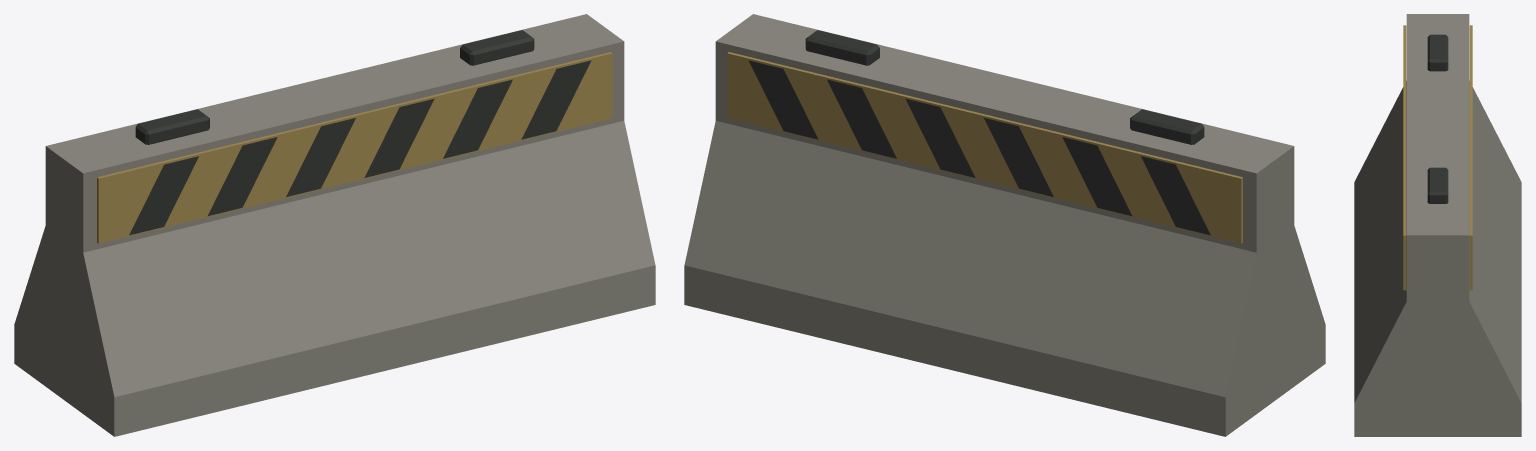
The model's file is barrier.glb.
3 renders of one model, left to right at view 1: azimuth 30°, elevation 25°; view 2: azimuth 150°, elevation 25°; view 3: azimuth 270°, elevation 25°, orthographic. The views are drawn at different scales.
Visible parts, largest first — view 1: barrier; view 2: barrier; view 3: barrier.
Part boxes in pixels (box(x1,y1,x2,y2)): barrier: box(14, 14, 655, 436); barrier: box(684, 14, 1325, 436); barrier: box(1354, 14, 1521, 436).
Size of the model in its own units: 2 by 0.8975 by 0.64.
